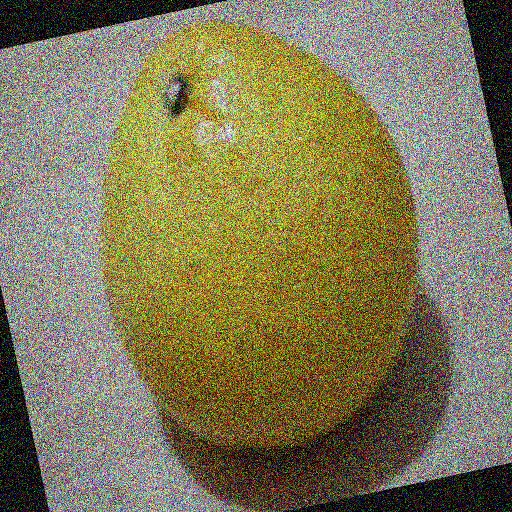fruit: (332, 65, 504, 402)
